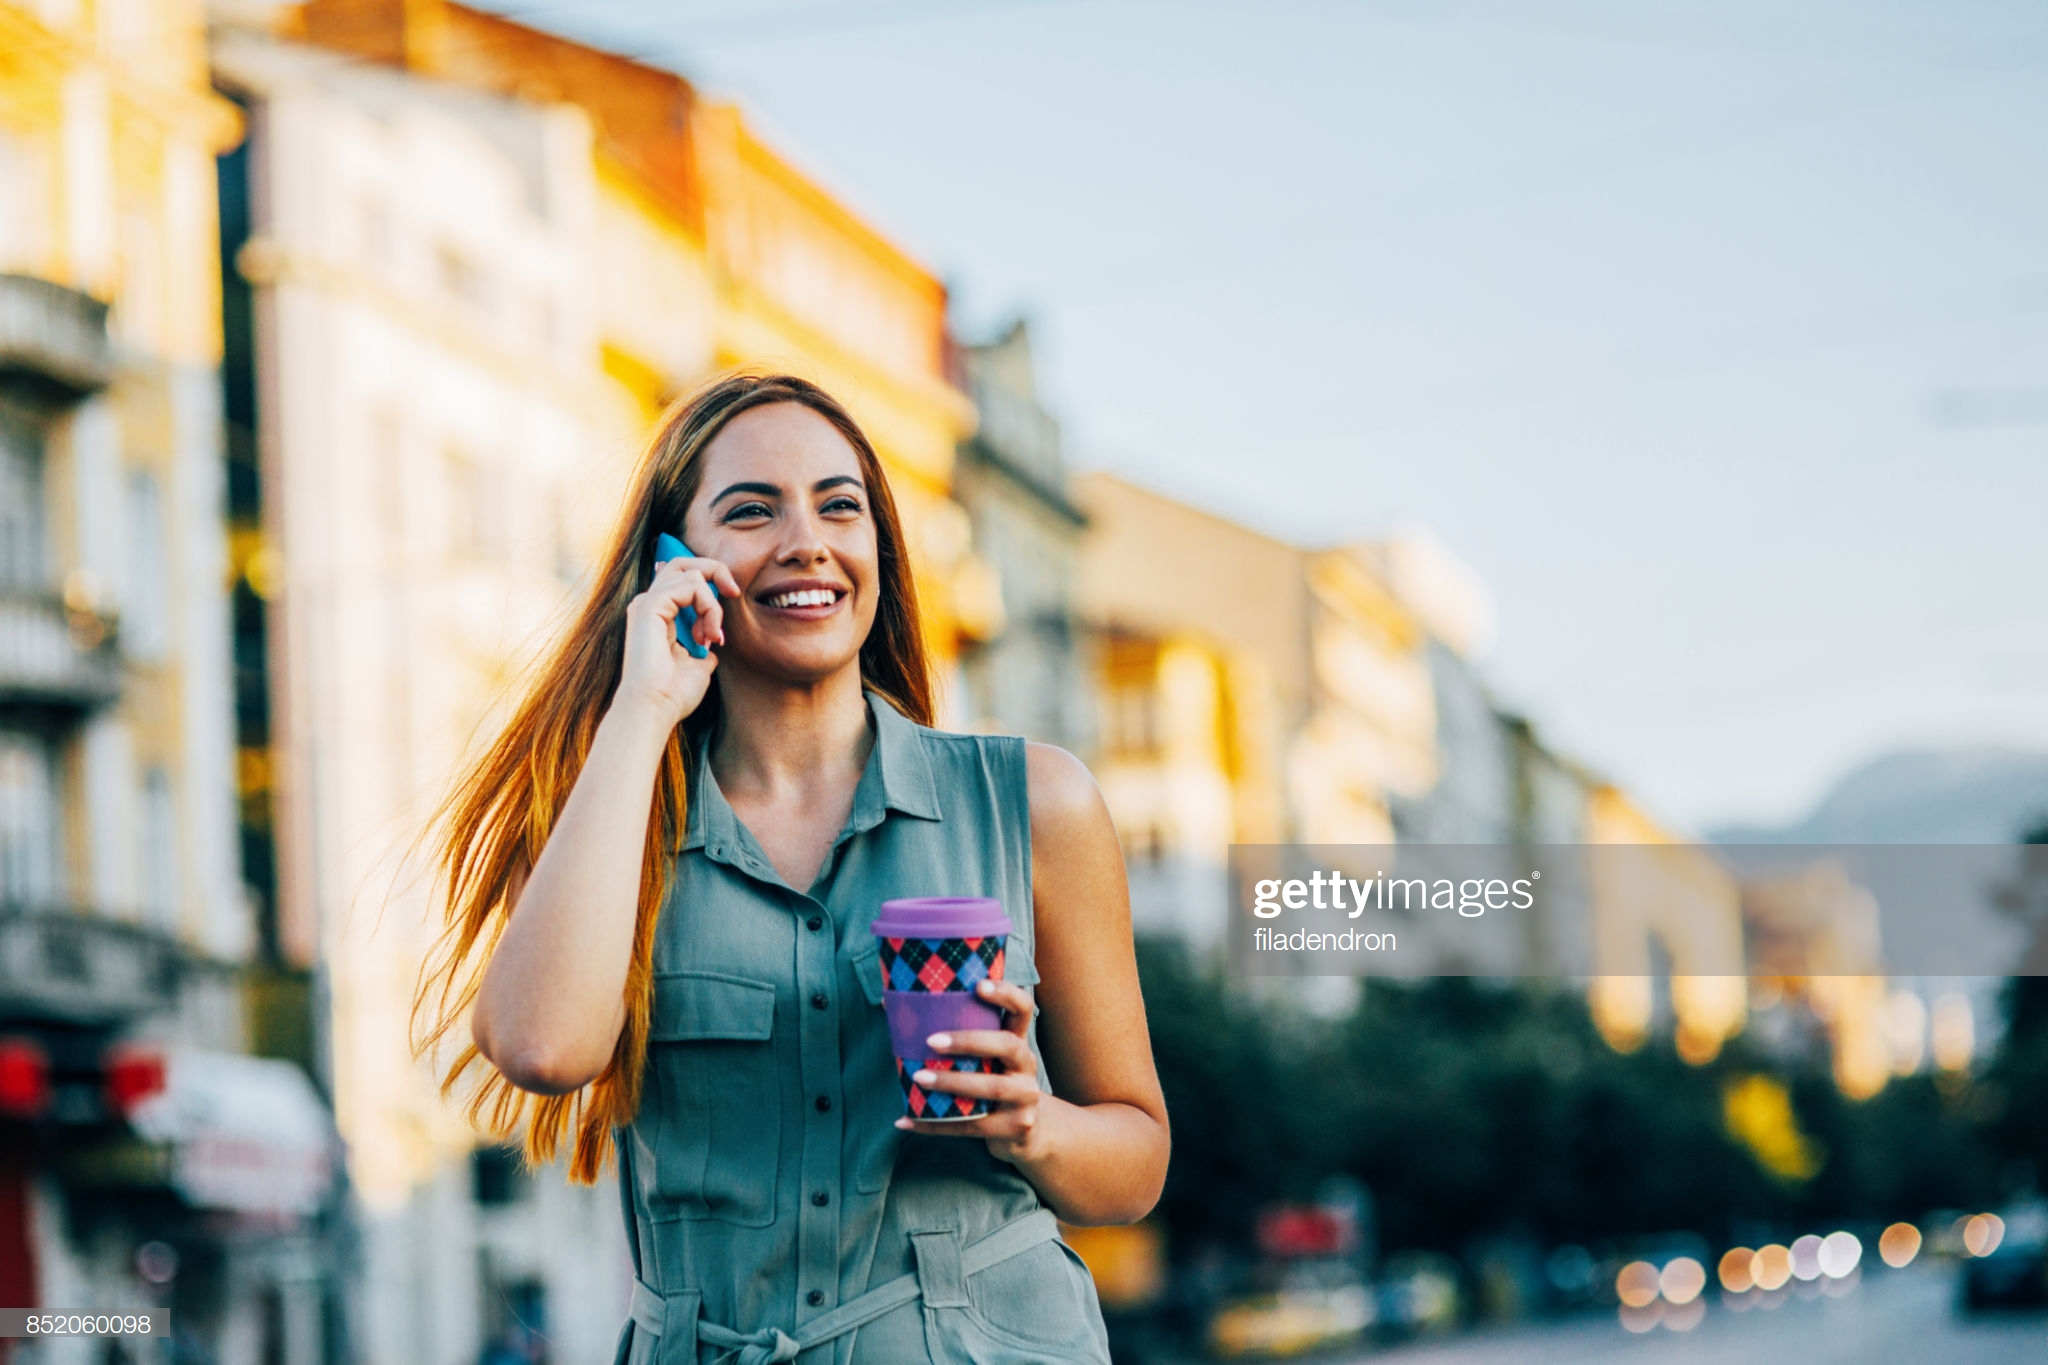phone: (652, 529, 728, 676)
talk: (612, 460, 895, 727)
